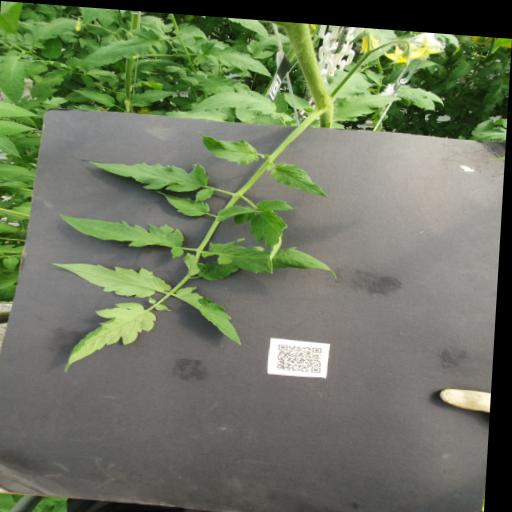Healthy: (68, 295, 159, 375), (216, 191, 300, 269), (88, 152, 217, 200), (205, 231, 343, 275), (62, 212, 187, 255), (52, 257, 175, 296), (78, 21, 168, 70), (176, 282, 248, 340), (120, 54, 216, 88), (191, 81, 286, 115), (332, 84, 402, 119), (197, 126, 263, 162), (271, 156, 333, 192), (206, 41, 275, 73), (0, 48, 34, 103), (29, 65, 66, 101), (159, 188, 212, 213), (91, 59, 140, 80), (131, 85, 178, 106), (0, 117, 42, 138), (70, 87, 117, 105), (0, 100, 41, 119), (8, 198, 33, 222), (282, 86, 311, 105), (40, 33, 62, 57), (272, 86, 289, 107), (5, 254, 22, 270)
